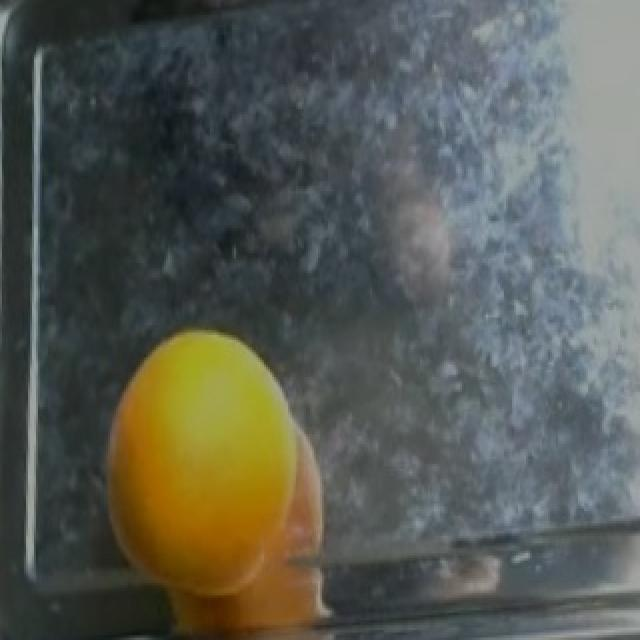Fruit: (94, 325, 340, 640)
